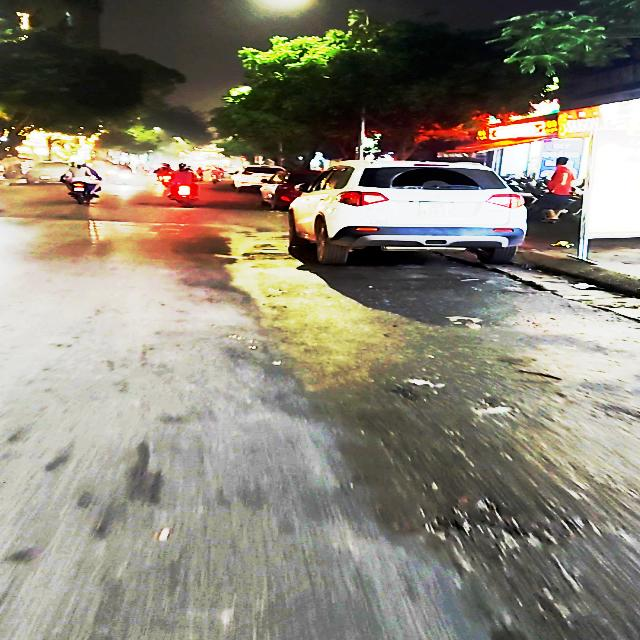license_plate: (418, 201, 457, 218)
